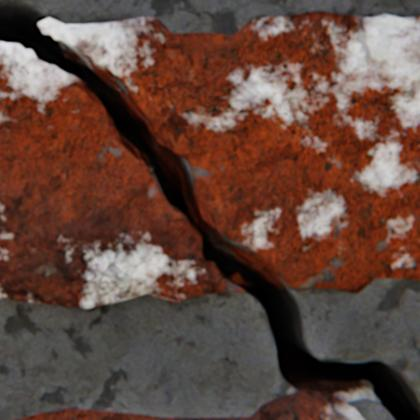brick: (7, 389, 363, 419)
broken_brick: (38, 12, 419, 292), (0, 42, 245, 307)
crack: (0, 0, 419, 419)
